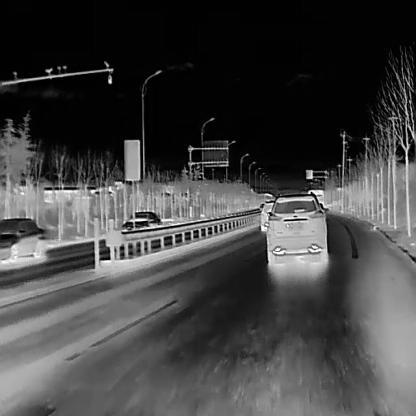car: (265, 190, 328, 263), (0, 215, 46, 260), (120, 211, 162, 237), (259, 199, 275, 232), (307, 189, 323, 215)
